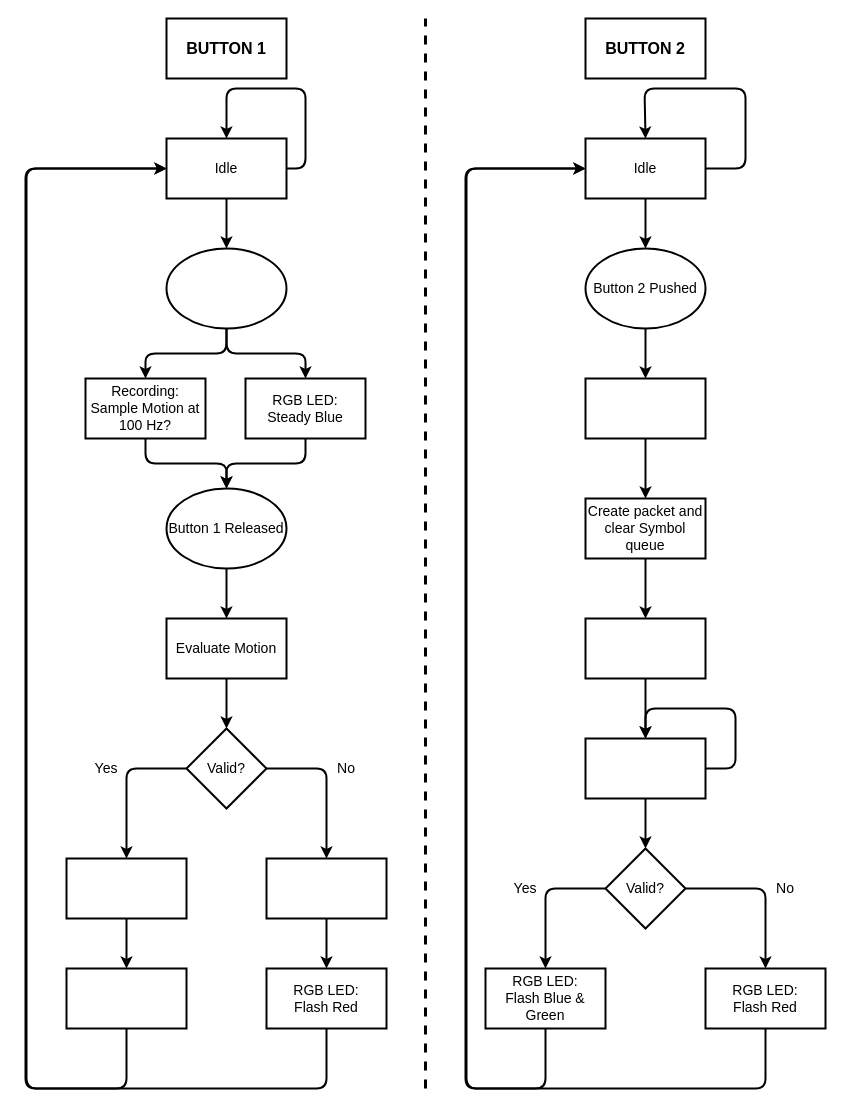
The diagram is 843 pixels wide and 1115 high, and some of its shapes have lost their labels. The shapes that lost their labels are listed below. From the top down, each one's centre as x and y in pixels, then its label:
the point at 226,288: Button 1 Pushed
the point at 645,408: Load current Symbol queue
the point at 645,648: Broadcast over Bluetooth
the point at 645,768: Wait for transmission result
the point at 126,888: Append Symbol to queue
the point at 326,888: Reject
the point at 126,998: RGB LED: Flash Green
